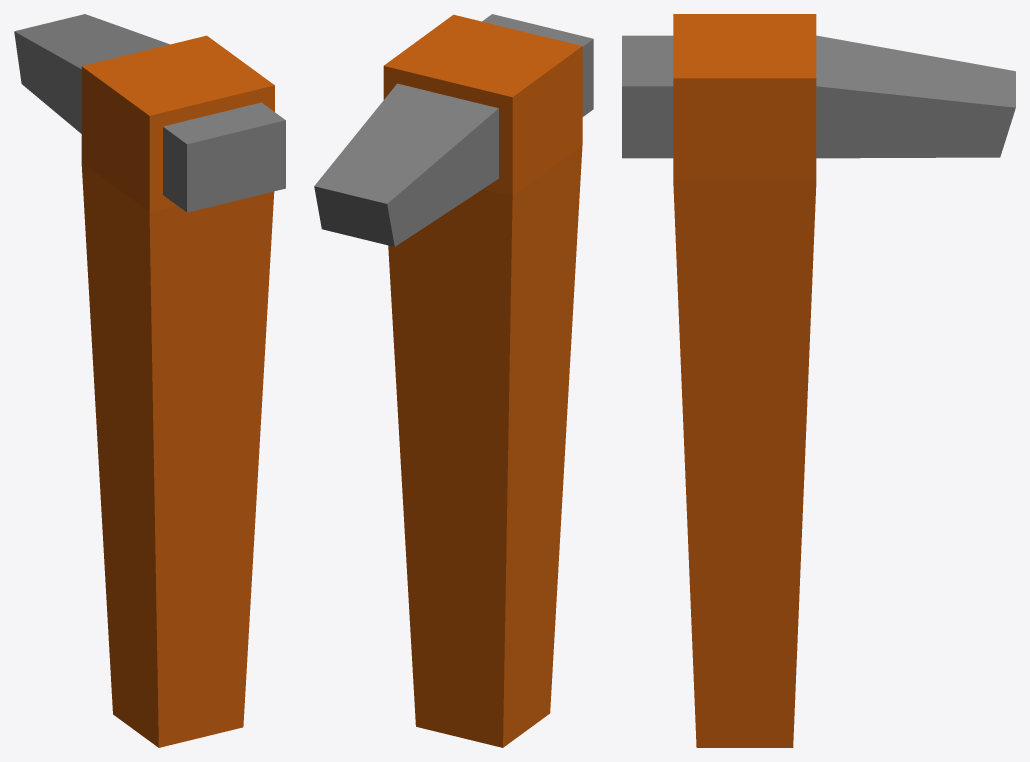
File: Hammer.fbx
The picture shows the model from 3 angles, left to right: view 1: azimuth 30°, elevation 25°; view 2: azimuth 150°, elevation 25°; view 3: azimuth 270°, elevation 25°; orthographic projection. The views are drawn at different scales.
Visible parts, largest first — view 1: Cube; view 2: Cube; view 3: Cube.
Part boxes in pixels (x1,y1,x2,y2): Cube: (14,14,285,747); Cube: (314,14,593,747); Cube: (622,14,1015,747).
Size of the model in its own units: 67.88 by 334 by 175.
